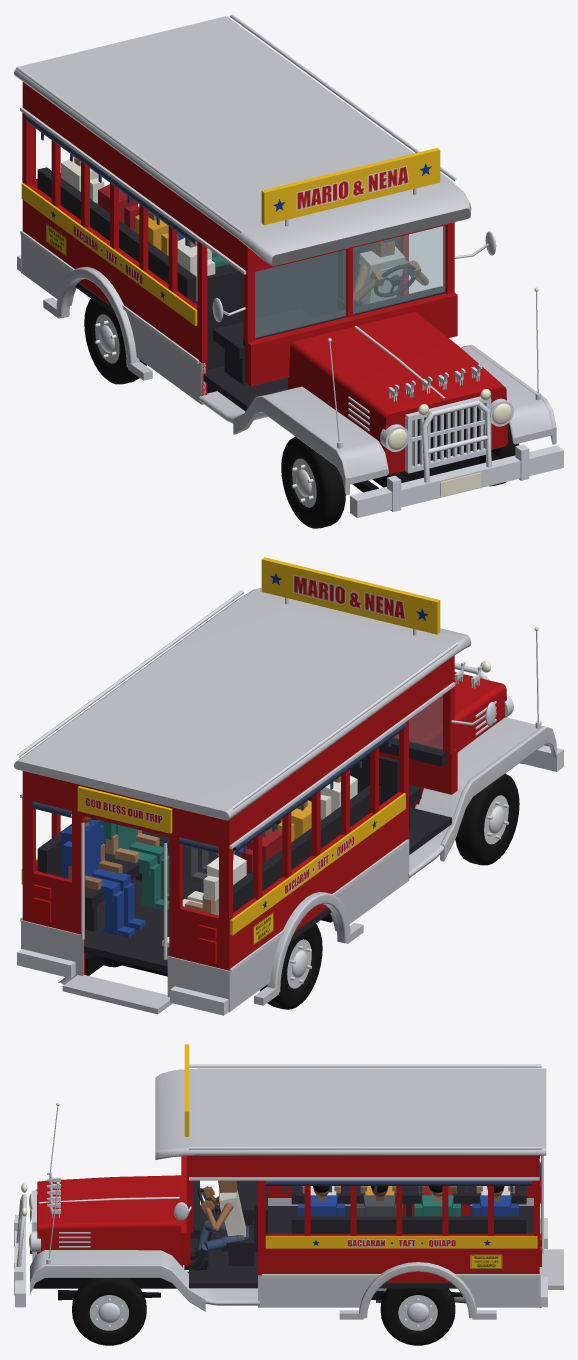
Rendered from jeepney.glb.
3 renders of one model, top to bottom at view 1: azimuth 30°, elevation 25°; view 2: azimuth 150°, elevation 25°; view 3: azimuth 270°, elevation 25°, orthographic. The views are drawn at different scales.
Visible parts, largest first — view 1: Roof, Body, Stainless, Nose, Chrome, Glass, Interior, Signage, Spin (×2), Grille, Benches, Lettering (+10 smaller); view 2: Roof, Body, Stainless, Chrome, Signage, Interior, Spin (×2), Benches, Nose, Lettering, Passenger_L3, Passenger_L2 (+11 smaller); view 3: Roof, Body, Stainless, Nose, Chrome, Spin (×2), Benches, Interior, Signage, Rim (×2), Curtains, Chassis (+8 smaller).
Boxes of the visible parts, <box> form: Roof: <box>14,16,471,266</box>; Body: <box>22,82,457,404</box>; Stainless: <box>21,235,556,495</box>; Nose: <box>287,312,508,474</box>; Chrome: <box>16,14,563,517</box>; Glass: <box>255,225,445,337</box>; Interior: <box>75,239,445,411</box>; Signage: <box>21,148,440,325</box>; Spin (×2): <box>84,299,345,528</box>; Grille: <box>380,396,513,473</box>; Benches: <box>37,167,197,304</box>; Lettering: <box>46,163,431,298</box>; Roof: <box>14,588,471,820</box>; Body: <box>22,655,457,974</box>; Stainless: <box>21,717,556,1014</box>; Chrome: <box>17,590,563,1015</box>; Signage: <box>21,557,440,935</box>; Interior: <box>83,737,451,972</box>; Spin (×2): <box>260,773,519,1009</box>; Benches: <box>37,785,380,931</box>; Nose: <box>397,672,507,808</box>; Lettering: <box>85,573,427,944</box>; Passenger_L3: <box>61,820,145,937</box>; Passenger_L2: <box>101,820,169,909</box>; Roof: <box>155,1068,546,1159</box>; Body: <box>181,1155,539,1282</box>; Stainless: <box>30,1189,563,1319</box>; Nose: <box>37,1175,183,1267</box>; Chrome: <box>14,1064,547,1307</box>; Spin (×2): <box>72,1278,455,1345</box>; Benches: <box>291,1186,526,1234</box>; Interior: <box>189,1180,533,1288</box>; Signage: <box>184,1044,541,1248</box>; Rim (×2): <box>89,1295,437,1330</box>; Curtains: <box>265,1161,540,1192</box>; Chassis: <box>30,1195,462,1300</box>.
Bounding box in the file's own units: 2.69 × 2.74 × 5.88.
Materials: 30 (1 with a texture image).
